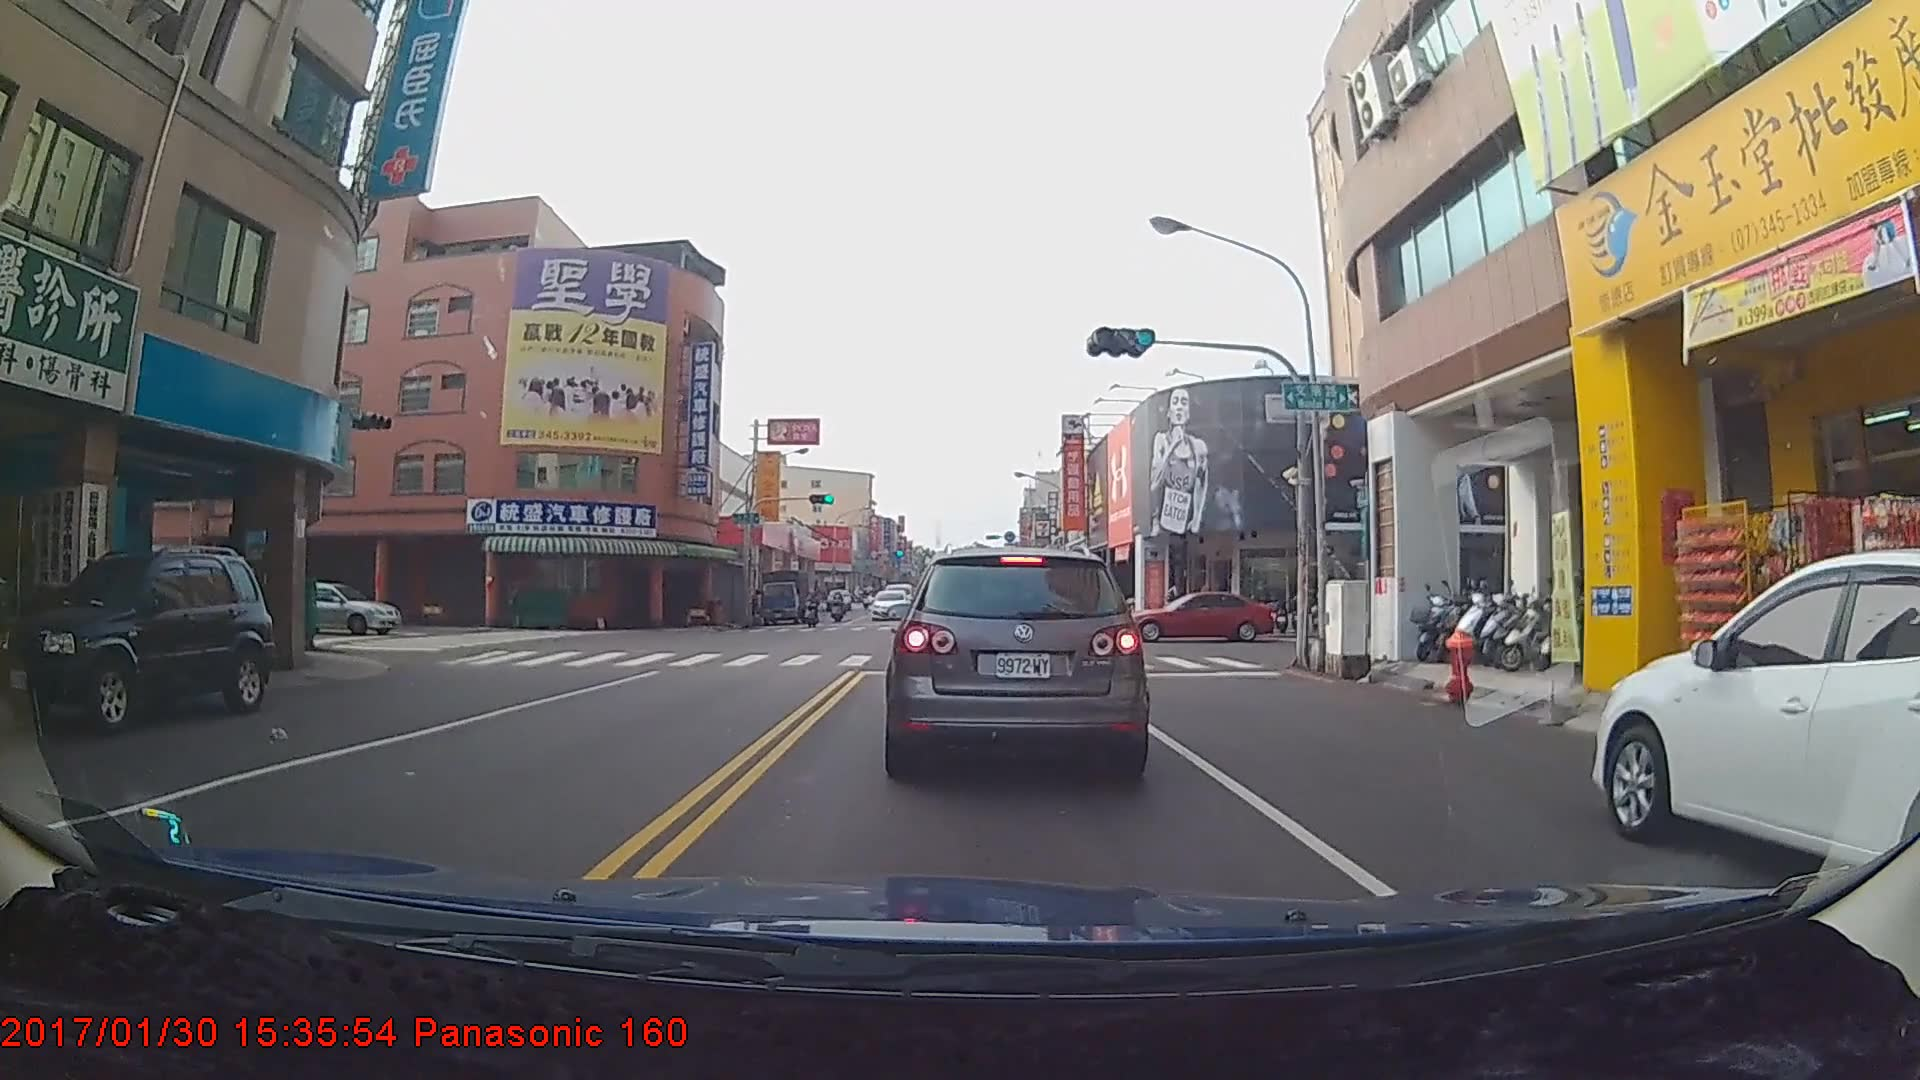rider: (797, 589, 825, 631), (830, 592, 852, 629)
vehicle: (1594, 546, 1920, 927), (889, 540, 1143, 777), (0, 545, 277, 737), (1119, 588, 1275, 641), (263, 577, 406, 631), (757, 571, 812, 629), (867, 589, 909, 624)
